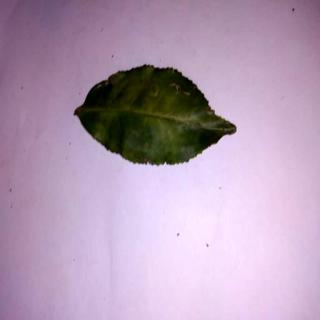Bird Eye Spot: (75, 65, 237, 166)
